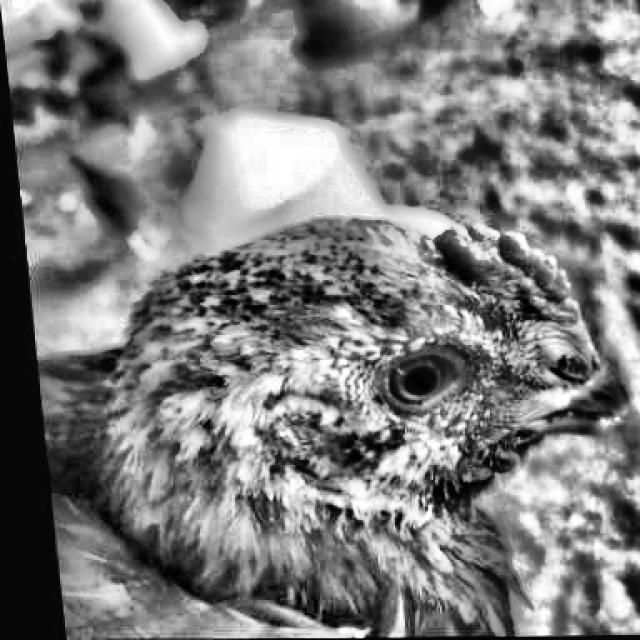Healthy: (360, 342, 500, 423)
